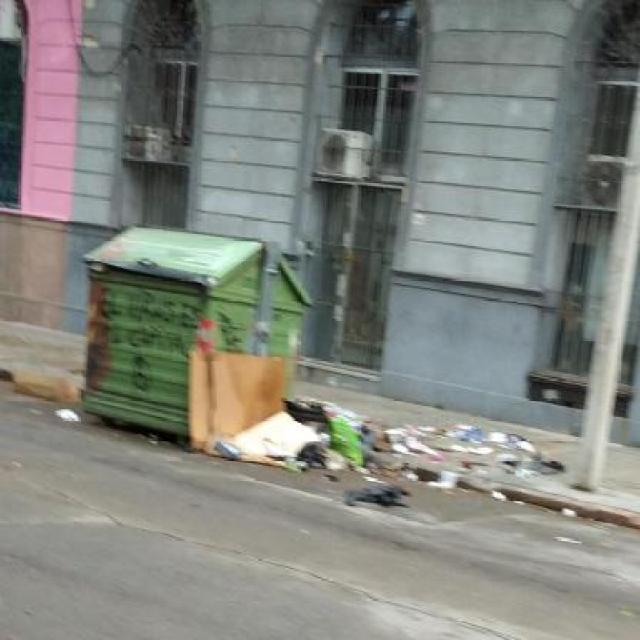garbage: (191, 355, 564, 510)
